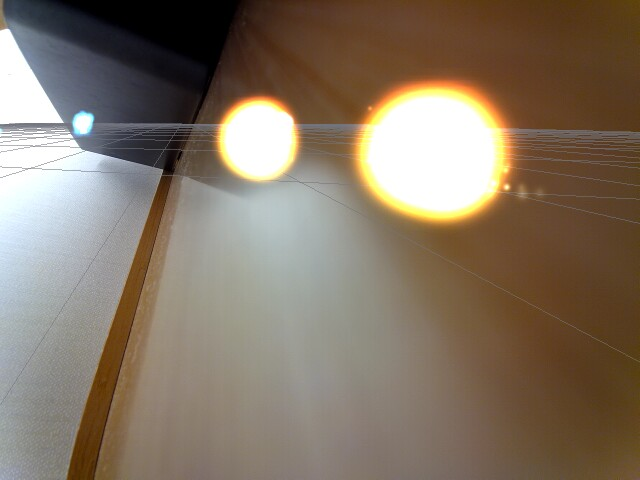firebig: (348, 77, 520, 227)
